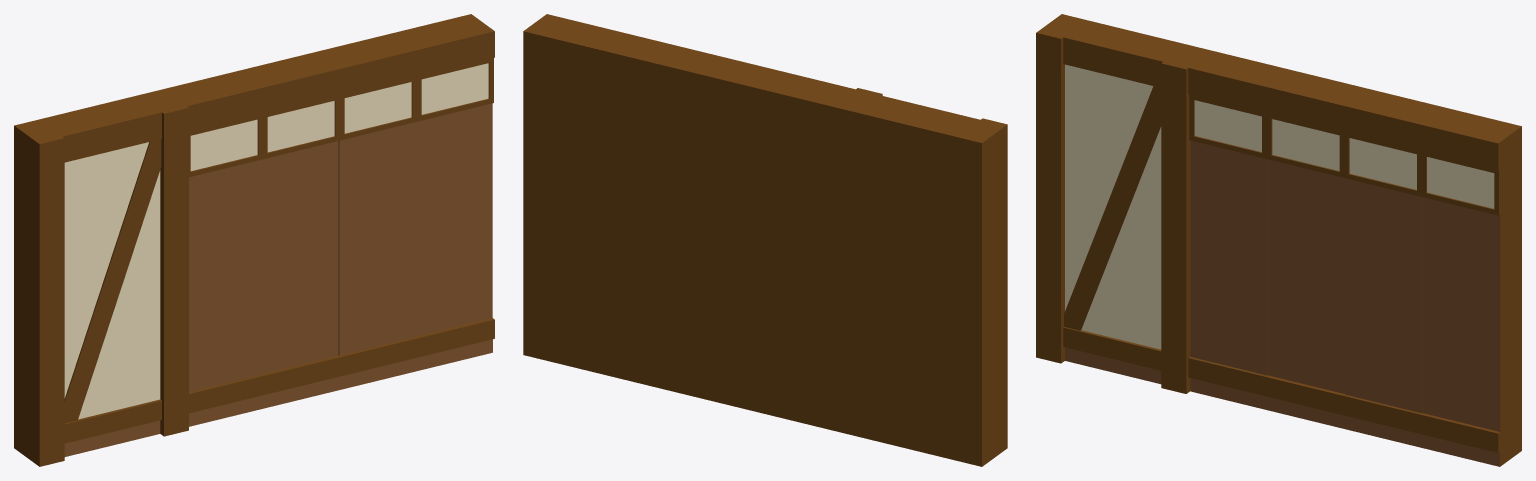
Rendered from Asian_Prop_Building_Modular_Wall_Rural_01.FBX.
3 views of the same model, side by side, from view 1: azimuth 30°, elevation 25°; view 2: azimuth 150°, elevation 25°; view 3: azimuth 330°, elevation 25° (orthographic).
Visible parts, largest first — view 1: Asian_Prop_Building_Modular_Wall_Rural_01; view 2: Asian_Prop_Building_Modular_Wall_Rural_01; view 3: Asian_Prop_Building_Modular_Wall_Rural_01.
Boxes of the visible parts, x1,y1,x2,y2 form: Asian_Prop_Building_Modular_Wall_Rural_01: (14, 14, 494, 466); Asian_Prop_Building_Modular_Wall_Rural_01: (523, 14, 1007, 466); Asian_Prop_Building_Modular_Wall_Rural_01: (1036, 14, 1521, 466).
Bounding box in the file's own units: 5167 × 3485 × 500.
